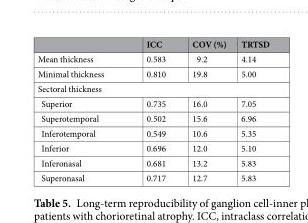table: (36, 37, 268, 183)
table column: (36, 37, 124, 183), (178, 37, 233, 183), (124, 37, 178, 183), (233, 37, 268, 183)
table column header: (36, 37, 268, 51)
table projected row header: (36, 80, 268, 95)
table row: (36, 65, 268, 80), (36, 80, 268, 95), (36, 95, 268, 110), (36, 110, 268, 125), (36, 125, 268, 140), (36, 140, 268, 155), (36, 155, 268, 170), (36, 37, 268, 51), (36, 51, 268, 65), (36, 170, 268, 183)
